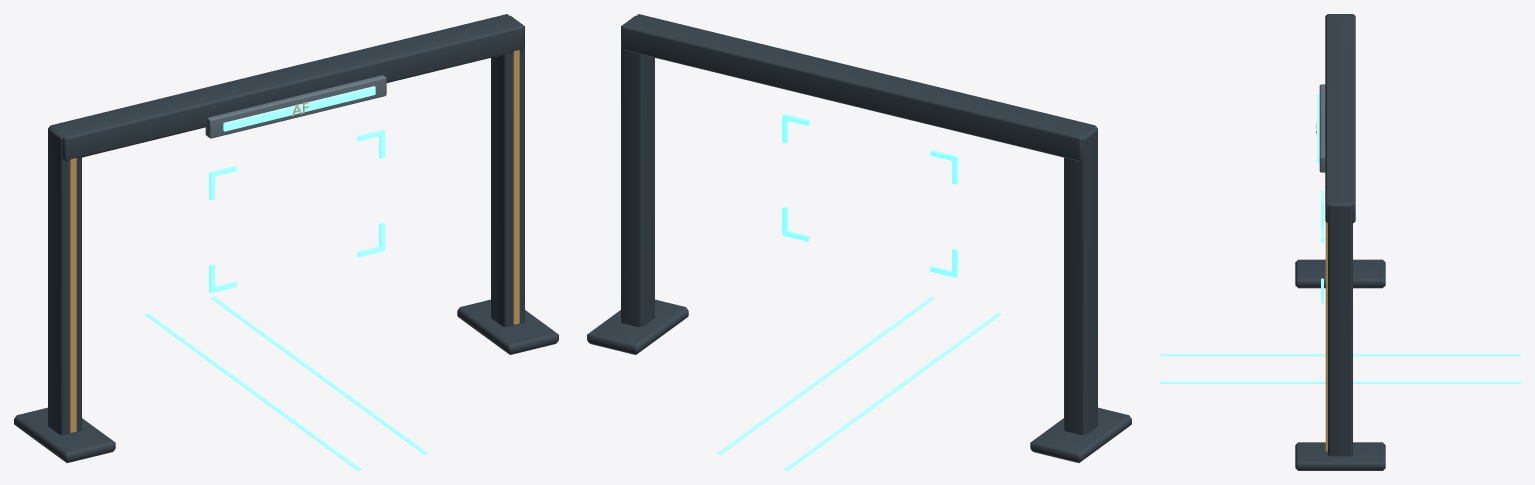
The model's file is nyanisyarud-camera-af-gate.glb.
3 renders of one model, left to right at view 1: azimuth 30°, elevation 25°; view 2: azimuth 150°, elevation 25°; view 3: azimuth 270°, elevation 25°, orthographic. The views are drawn at different scales.
Visible parts, largest first — view 1: af-gate_case, af-gate_brass, af-gate_cyan, ChargeCase, FocusIndicator; view 2: af-gate_case, af-gate_cyan; view 3: af-gate_case, af-gate_cyan, af-gate_brass, ChargeCase.
Boxes of the visible parts, left/top/right/bottom form: af-gate_case: left=14, top=14, right=558, bottom=462; af-gate_brass: left=69, top=50, right=519, bottom=432; af-gate_cyan: left=144, top=129, right=428, bottom=470; ChargeCase: left=205, top=75, right=386, bottom=138; FocusIndicator: left=223, top=86, right=375, bottom=131; af-gate_case: left=587, top=14, right=1131, bottom=462; af-gate_cyan: left=717, top=114, right=1001, bottom=470; af-gate_case: left=1295, top=14, right=1385, bottom=470; af-gate_cyan: left=1160, top=191, right=1520, bottom=383; af-gate_brass: left=1325, top=222, right=1327, bottom=451; ChargeCase: left=1319, top=84, right=1325, bottom=172.
Bounding box in the file's own units: 13.4 × 8.02 × 10.
